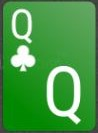Clover: (10, 44, 37, 71)
